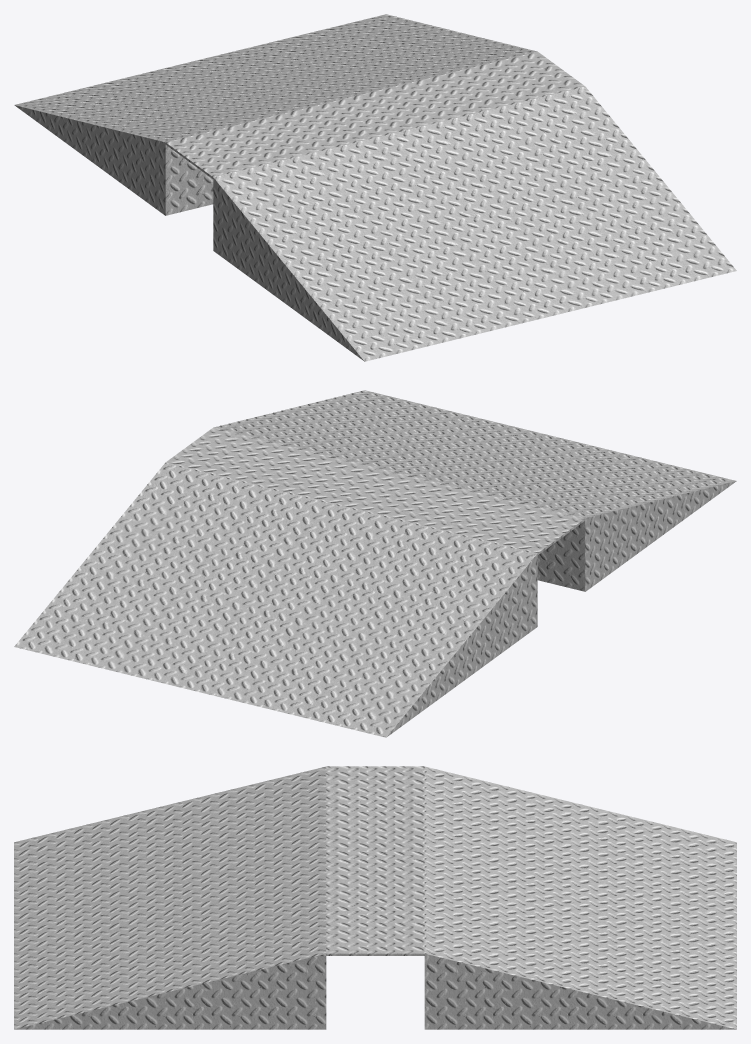
The model's file is Ramp.dae.
3 renders of one model, top to bottom at view 1: azimuth 30°, elevation 25°; view 2: azimuth 150°, elevation 25°; view 3: azimuth 270°, elevation 25°, orthographic. The views are drawn at different scales.
Parts seen in each view (by area): view 1: group_0 (×3); view 2: group_0 (×3); view 3: group_0 (×3).
Boxes of the visible parts, bbox=[...] form: group_0 (×3): bbox=[14, 14, 736, 361]; group_0 (×3): bbox=[14, 390, 736, 737]; group_0 (×3): bbox=[14, 766, 736, 1029].
Size of the model in its own units: 35.43 by 57.83 by 6.69.
1 material, 1 textured.
